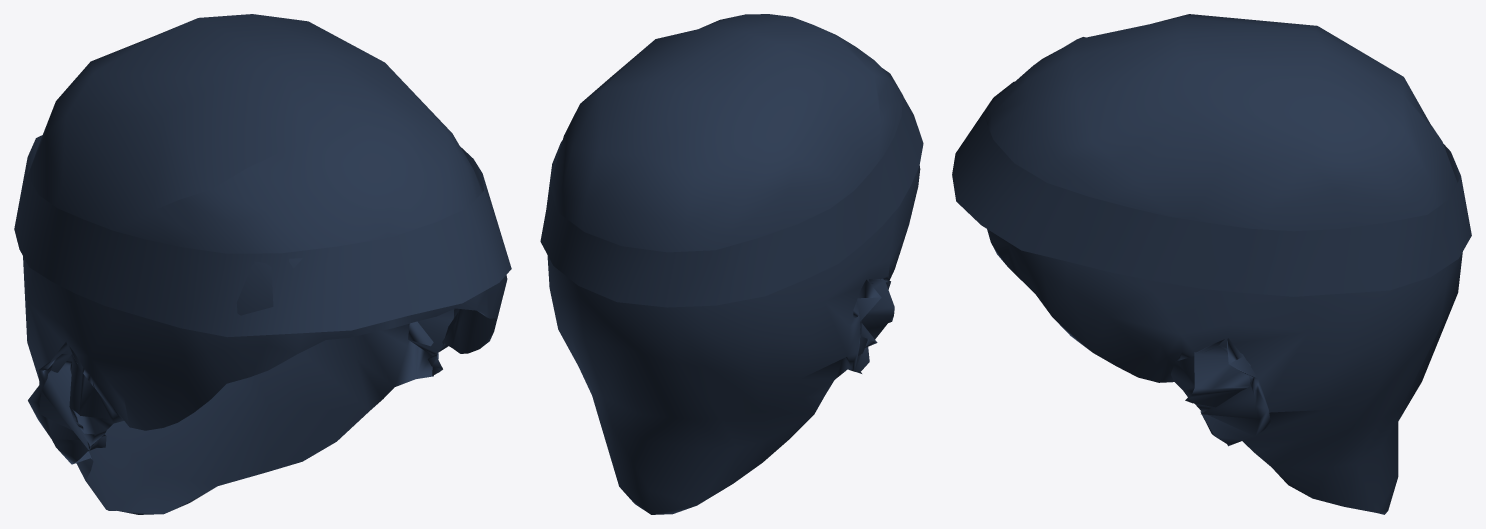
Rendered from beanie.glb.
The picture shows the model from 3 angles, left to right: view 1: azimuth 30°, elevation 25°; view 2: azimuth 150°, elevation 25°; view 3: azimuth 270°, elevation 25°; orthographic projection. The views are drawn at different scales.
Visible parts, largest first — view 1: beanie; view 2: beanie; view 3: beanie.
Part boxes in pixels (x1,y1,x2,y2): beanie: (14, 14, 511, 514); beanie: (540, 14, 923, 514); beanie: (952, 14, 1471, 514).
Size of the model in its own units: 0.1985 by 0.2479 by 0.2459.
